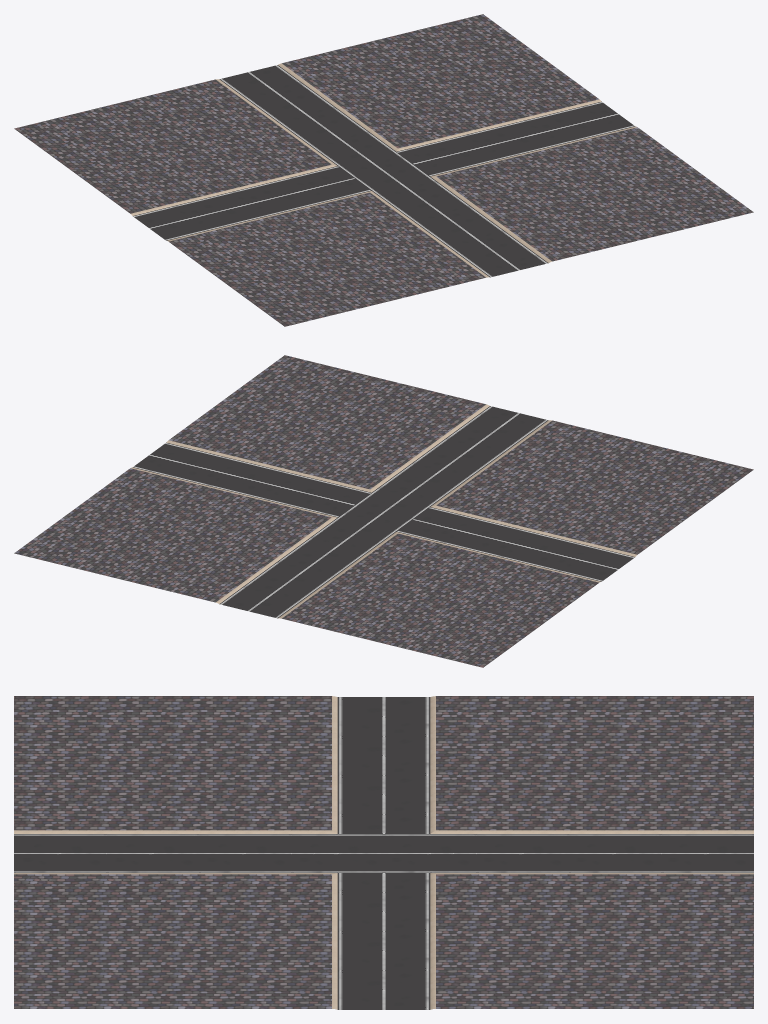
File: RoadCross.fbx
3 views of the same model, one above another, from view 1: azimuth 30°, elevation 25°; view 2: azimuth 150°, elevation 25°; view 3: azimuth 270°, elevation 25° (orthographic). The views are drawn at different scales.
Parts seen in each view (by area): view 1: RoadCross; view 2: RoadCross; view 3: RoadCross.
Part boxes in pixels (x1=…): RoadCross: x1=14, y1=14, x2=753, y2=326; RoadCross: x1=14, y1=355, x2=753, y2=667; RoadCross: x1=14, y1=696, x2=753, y2=1009.
Size of the model in its own units: 6400 by 10 by 6400.
